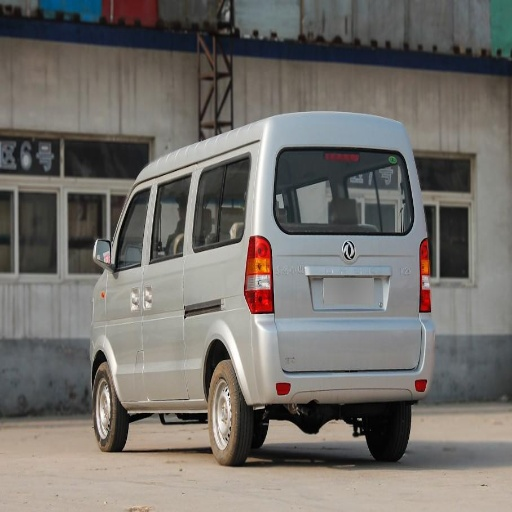back_bumper: (247, 313, 432, 402)
back_glass: (277, 150, 412, 233)
back_left_door: (158, 170, 210, 243)
back_left_light: (243, 238, 272, 312)
back_right_door: (275, 146, 311, 196)
trunk: (158, 235, 420, 394)
